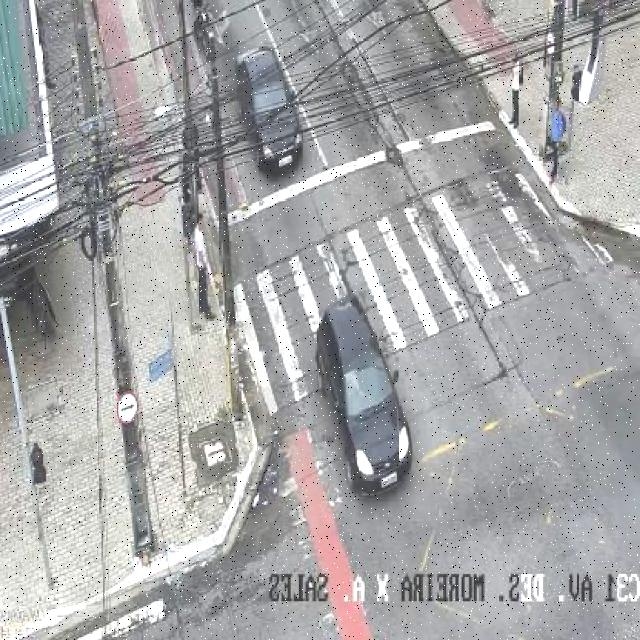car: (316, 294, 412, 494), (236, 47, 302, 181)
motorbike: (193, 214, 218, 318), (508, 53, 526, 127), (549, 93, 563, 182)
